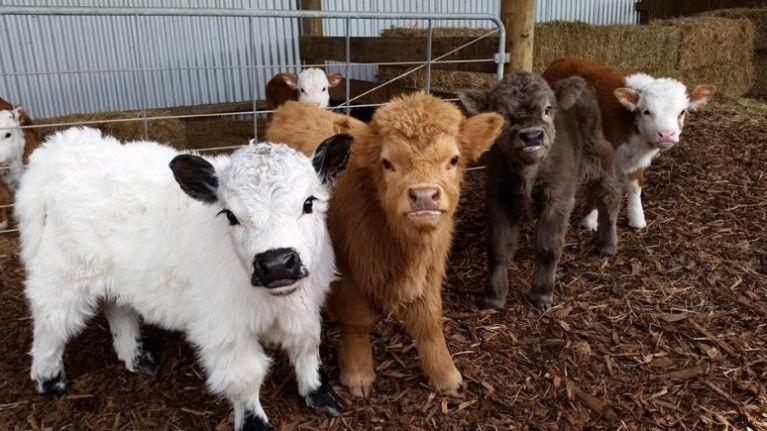cow: (16, 58, 691, 430)
